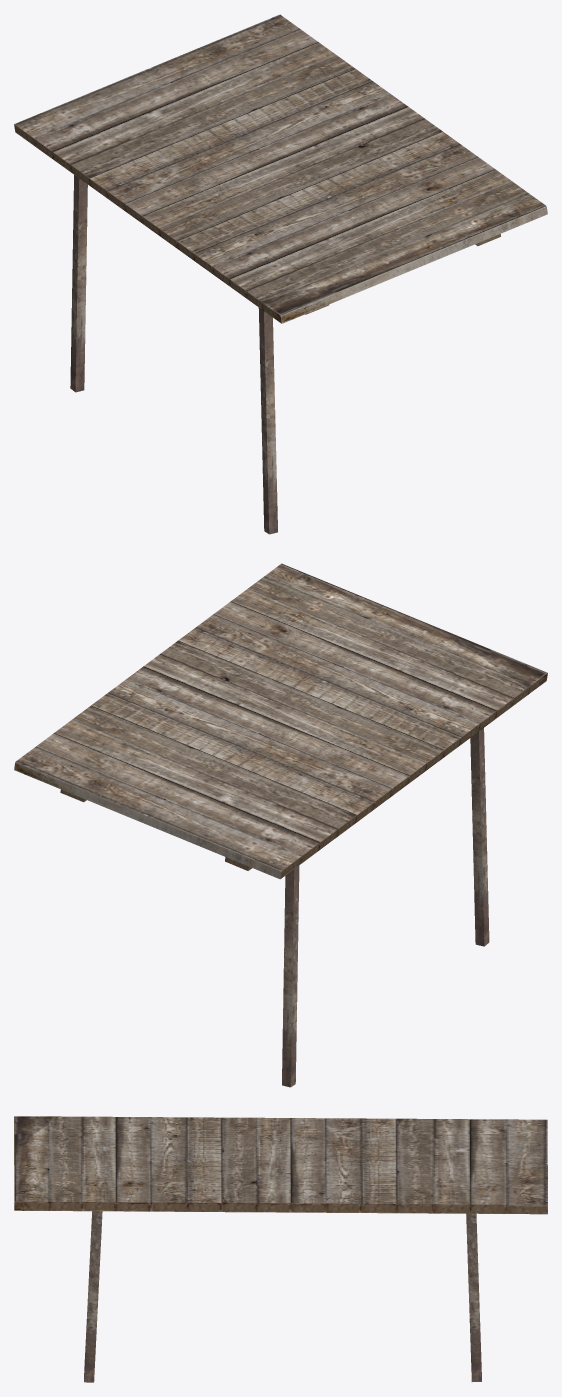
File: shed.FBX
3 views of the same model, one above another, from view 1: azimuth 30°, elevation 25°; view 2: azimuth 150°, elevation 25°; view 3: azimuth 270°, elevation 25° (orthographic).
Visible parts, largest first — view 1: shed; view 2: shed; view 3: shed.
Part boxes in pixels (left/top/right/bottom): shed: left=14, top=14, right=547, bottom=534; shed: left=14, top=563, right=547, bottom=1087; shed: left=14, top=1116, right=547, bottom=1382.
Size of what is drawn, in the model's own units: 140 by 147 by 241.
